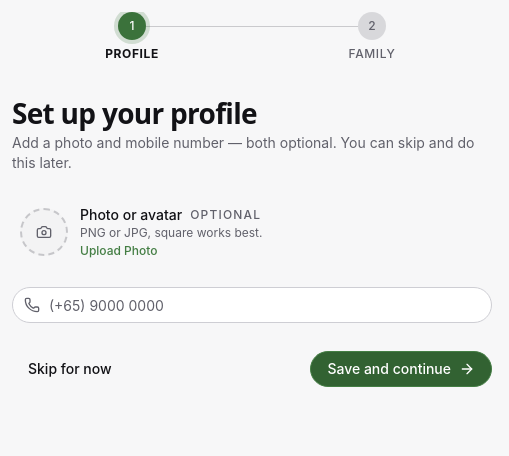
Test case: OnboardingWizard › Skip advances to the Family step without writing anything
Click the button "Skip for now" at (70, 369), box [12, 351, 128, 387]
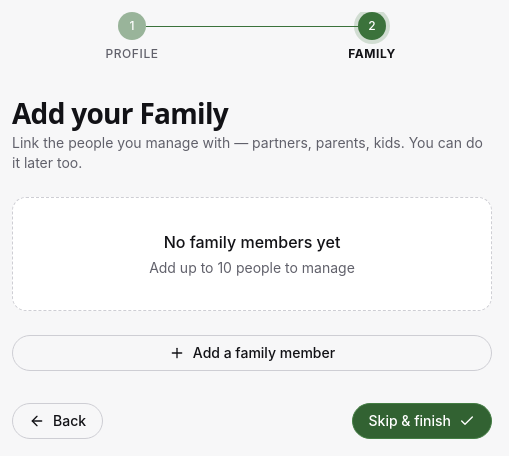
Expected: the heading "Add your Family" is shown, [12, 94, 228, 132]
